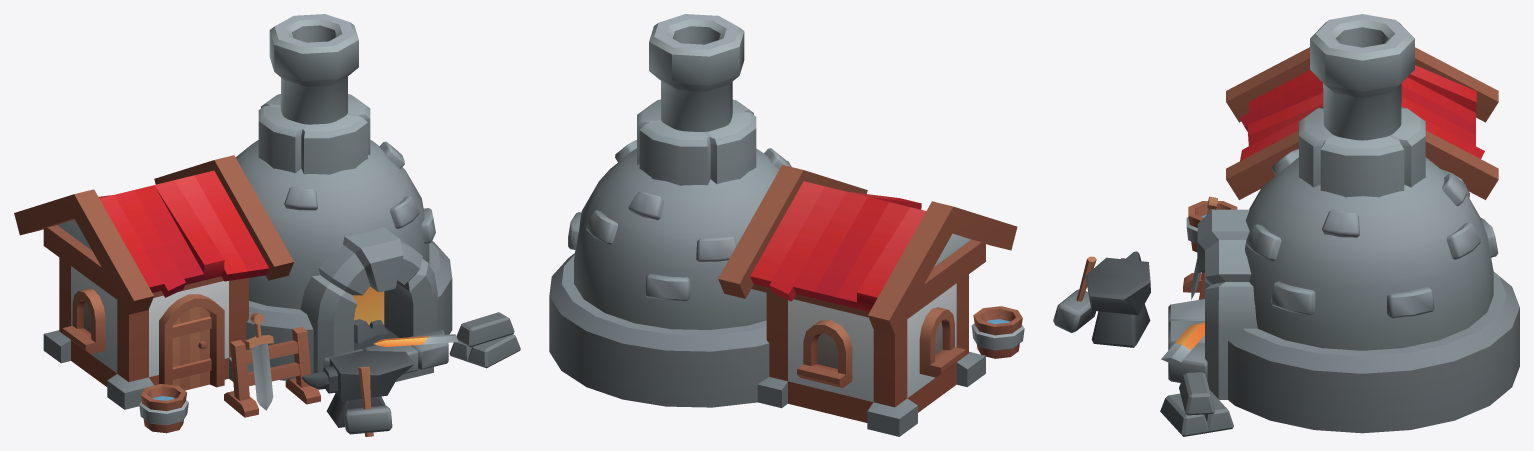
File: kk_blacksmith_v1.glb
The picture shows the model from 3 angles, left to right: view 1: azimuth 30°, elevation 25°; view 2: azimuth 150°, elevation 25°; view 3: azimuth 270°, elevation 25°; orthographic projection. The views are drawn at different scales.
Parts seen in each view (by area): view 1: building_blacksmith_red; view 2: building_blacksmith_red; view 3: building_blacksmith_red.
Part boxes in pixels (x1,y1,x2,y2): building_blacksmith_red: (14, 14, 520, 436); building_blacksmith_red: (549, 14, 1024, 436); building_blacksmith_red: (1053, 14, 1519, 436).
Bounding box in the file's own units: 1.29 × 0.9851 × 1.25.
1 material, 1 textured.
